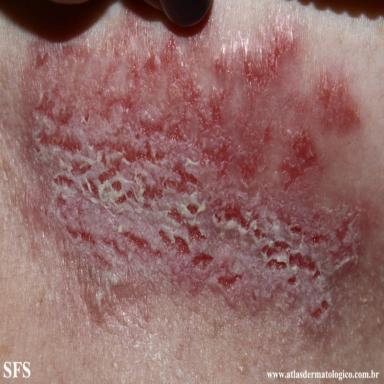Hailey-Hailey-Disease: (15, 13, 384, 354)
